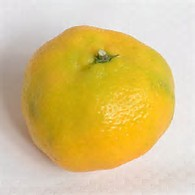orange: (21, 20, 174, 171)
